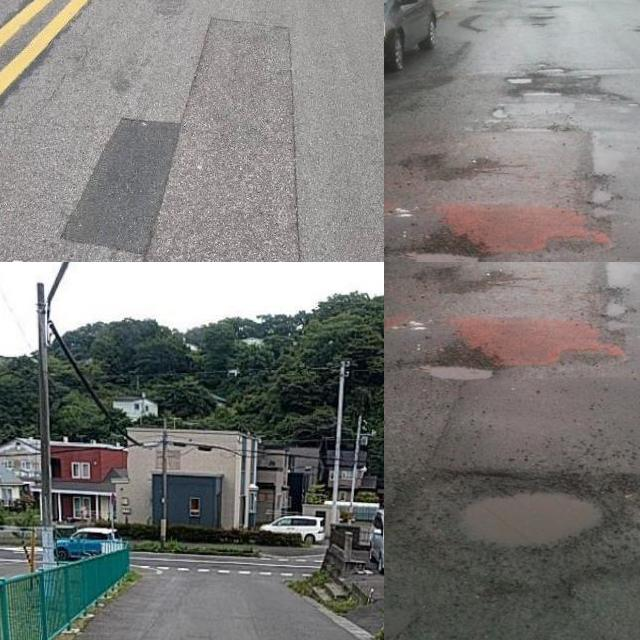Lubang: (392, 473, 640, 593), (413, 351, 496, 387), (399, 238, 482, 262)
Sambungan: (144, 21, 299, 262), (59, 118, 182, 255)
